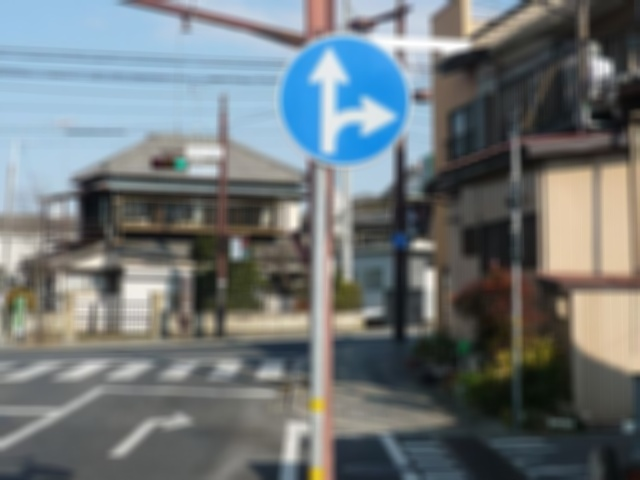Direction_sign: (270, 29, 425, 173)
